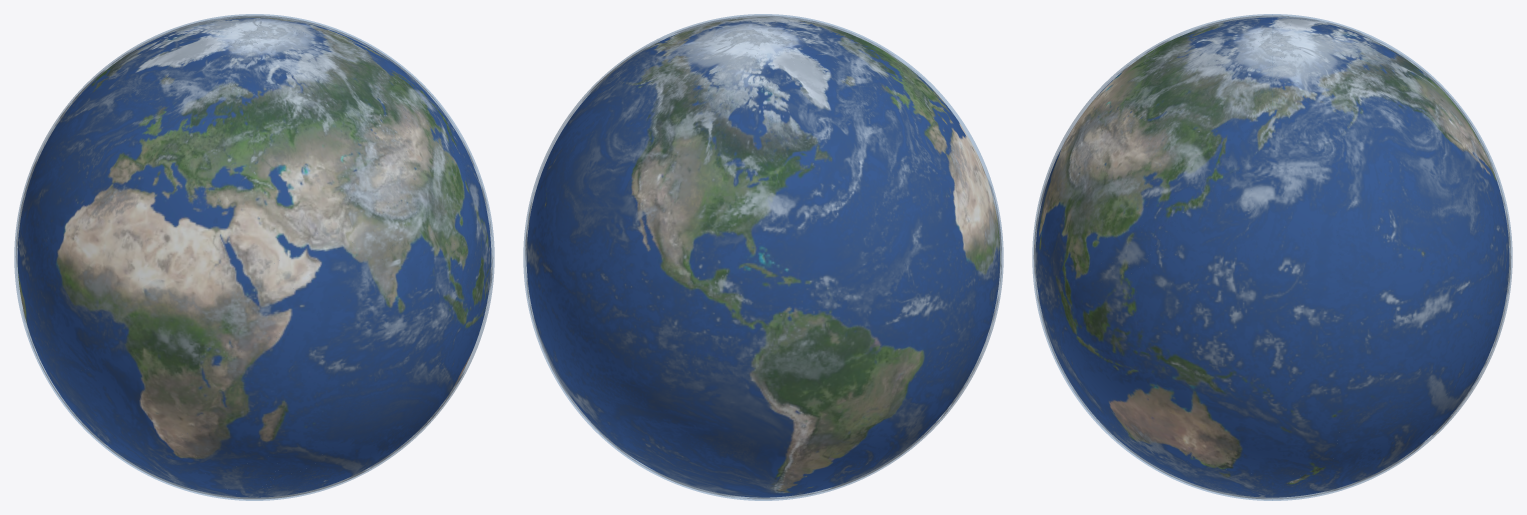
The model's file is earth-airstudios.glb.
3 renders of one model, left to right at view 1: azimuth 30°, elevation 25°; view 2: azimuth 150°, elevation 25°; view 3: azimuth 270°, elevation 25°, orthographic.
Visible parts, largest first — view 1: pSphere5, pSphere1, pSphere4; view 2: pSphere5, pSphere1, pSphere4; view 3: pSphere5, pSphere1, pSphere4.
Part boxes in pixels (<box>): pSphere5: <box>14,14,494,500</box>; pSphere1: <box>17,17,491,497</box>; pSphere4: <box>16,15,492,499</box>; pSphere5: <box>523,14,1003,500</box>; pSphere1: <box>526,17,1000,497</box>; pSphere4: <box>525,15,1001,499</box>; pSphere5: <box>1032,14,1512,500</box>; pSphere1: <box>1035,17,1509,497</box>; pSphere4: <box>1034,15,1510,499</box>.
Bounding box in the file's own units: 192 × 196 × 192.
Materials: 3 (2 with a texture image).
